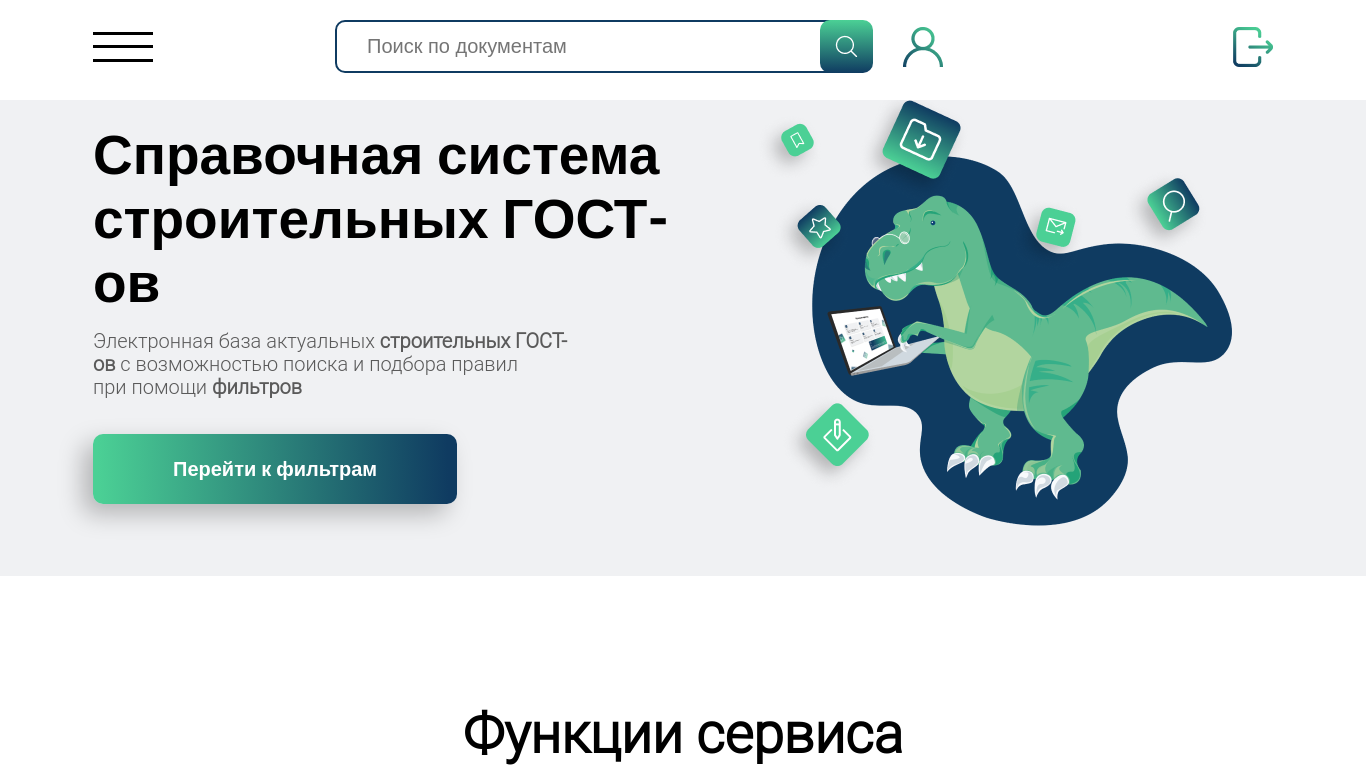
Test: Тестирование навигации › Профиль -> Закладки
The width and height of the screenshot is (1366, 768).
Expected: the element with test id "welcome" is shown, [93, 100, 1233, 526]
Click the link with test id "profileButton" at (923, 46), box [903, 26, 943, 66]
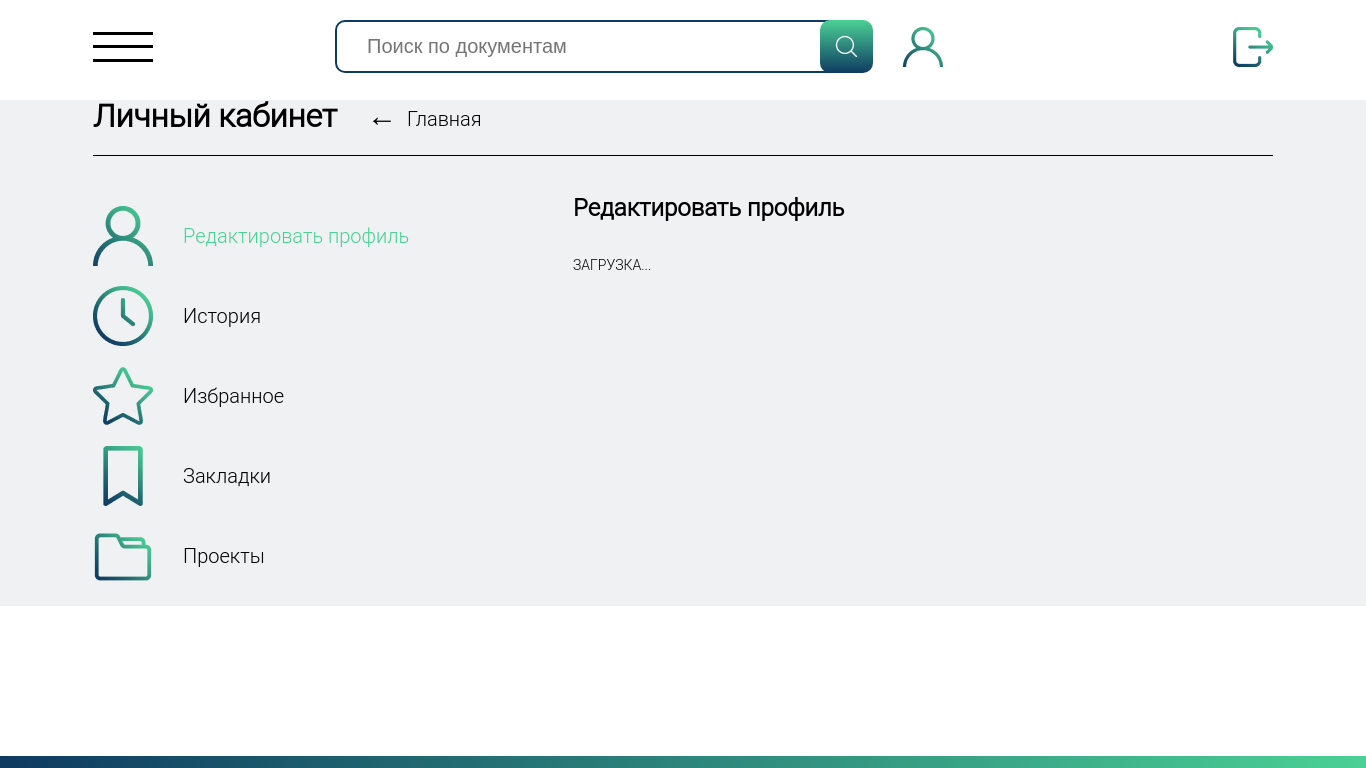
Now the element with test id "welcome" is gone
Now the element with test id "profile" that starts with "Личный кабинет" is shown
Click the link "Закладки" at (227, 476), box [183, 466, 271, 486]
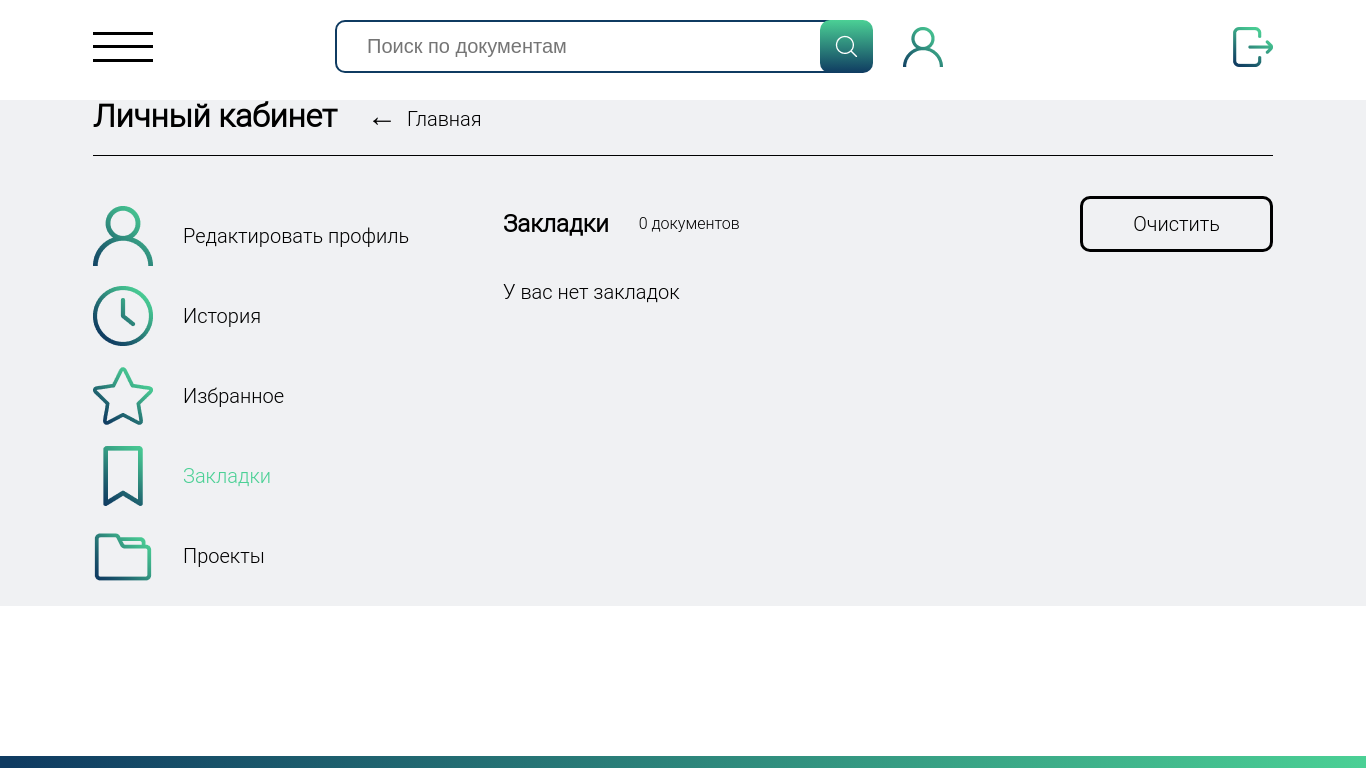
Now the link "Очистить" is shown, box [1080, 196, 1273, 252]
